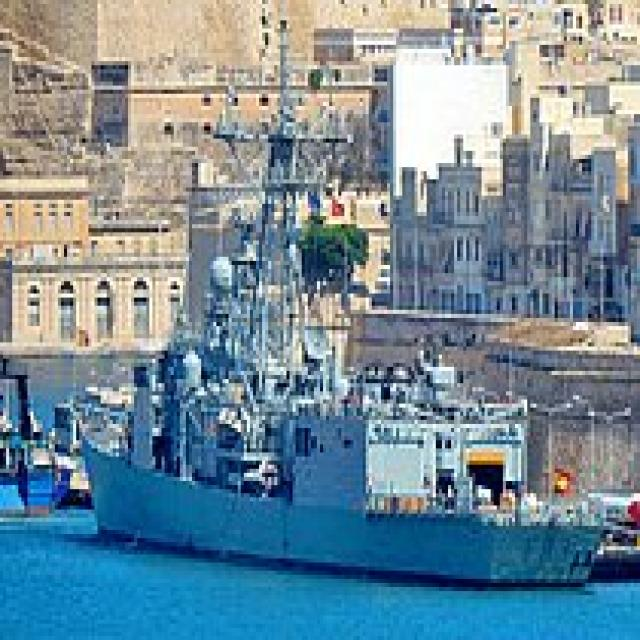Warship: (73, 12, 604, 587)
